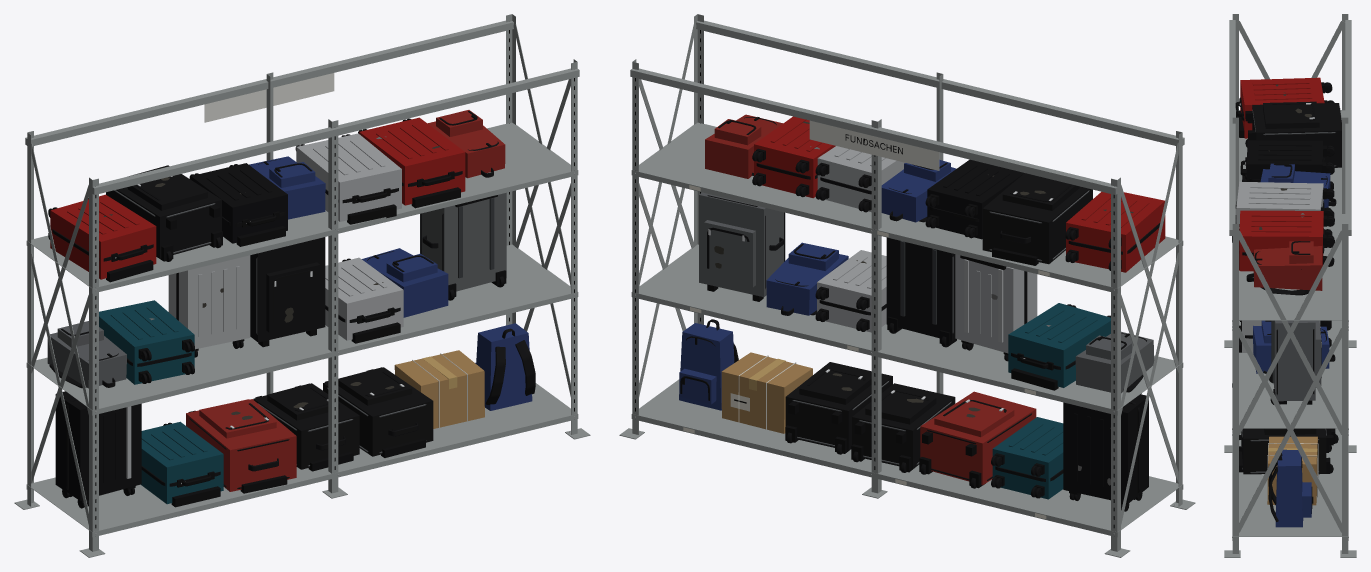
File: luggage_pile.glb
The picture shows the model from 3 angles, left to right: view 1: azimuth 30°, elevation 25°; view 2: azimuth 150°, elevation 25°; view 3: azimuth 270°, elevation 25°; orthographic projection. The views are drawn at different scales.
Parts seen in each view (by area): view 1: fund_0, fund_16, fund_24, fund_5, fund_25, fund_12, fund_18, fund_15, fund_23, fund_8, fund_6, fund_19 (+3 smaller); view 2: fund_0, fund_16, fund_24, fund_18, fund_5, fund_23, fund_12, fund_15, fund_25, fund_6, fund_8, fund_19 (+5 smaller); view 3: fund_0, fund_16, fund_25, fund_23, fund_18, fund_24, fund_15, fund_5, fund_6, fund_8, fund_19, fund_17 (+1 smaller).
Part boxes in pixels (bbox=[...]): fund_0: bbox=[14, 14, 590, 557]; fund_16: bbox=[49, 165, 535, 488]; fund_24: bbox=[168, 133, 403, 349]; fund_5: bbox=[55, 163, 287, 500]; fund_25: bbox=[50, 117, 465, 279]; fund_12: bbox=[99, 300, 223, 504]; fund_18: bbox=[47, 190, 506, 466]; fund_15: bbox=[186, 110, 505, 491]; fund_23: bbox=[249, 156, 532, 410]; fund_8: bbox=[63, 115, 506, 507]; fund_6: bbox=[48, 111, 504, 508]; fund_19: bbox=[394, 350, 484, 428]; fund_0: bbox=[619, 14, 1195, 557]; fund_16: bbox=[706, 172, 1143, 480]; fund_24: bbox=[817, 146, 1037, 353]; fund_18: bbox=[699, 190, 1154, 464]; fund_5: bbox=[927, 159, 1148, 503]; fund_23: bbox=[679, 159, 956, 410]; fund_12: bbox=[992, 303, 1110, 499]; fund_15: bbox=[705, 114, 1036, 485]; fund_25: bbox=[754, 116, 1165, 272]; fund_6: bbox=[680, 116, 1163, 511]; fund_8: bbox=[682, 117, 1141, 506]; fund_19: bbox=[721, 352, 812, 433]; fund_0: bbox=[1224, 14, 1356, 557]; fund_16: bbox=[1232, 101, 1341, 521]; fund_25: bbox=[1239, 77, 1324, 271]; fund_23: bbox=[1253, 163, 1330, 527]; fund_18: bbox=[1242, 108, 1341, 473]; fund_24: bbox=[1236, 181, 1323, 352]; fund_15: bbox=[1253, 241, 1322, 290]; fund_5: bbox=[1246, 140, 1323, 182]; fund_6: bbox=[1235, 82, 1338, 513]; fund_8: bbox=[1232, 82, 1335, 503]; fund_19: bbox=[1267, 436, 1317, 505]; fund_17: bbox=[1271, 320, 1274, 383].
Size of the model in its own units: 3.1 by 2.2 by 0.8.
